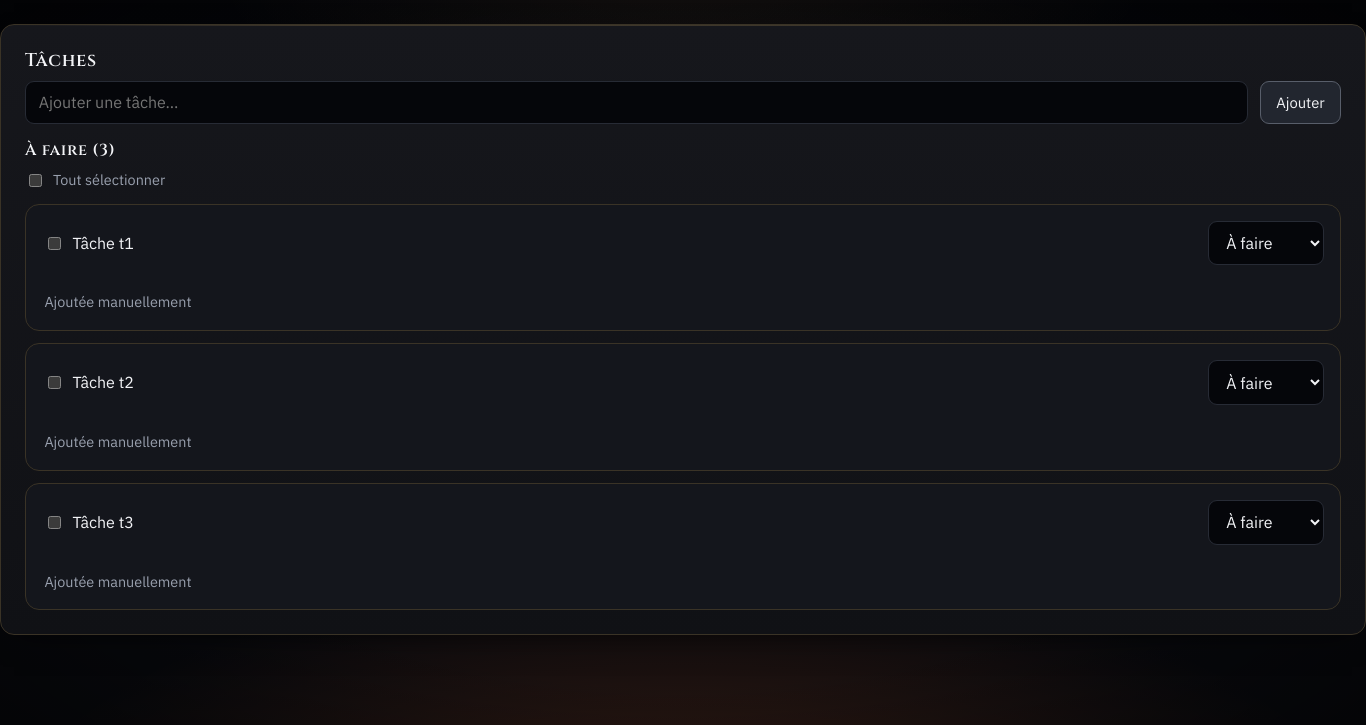
Test: TasksSection — IGINI fait les tâches › lance les tâches cochées une par une, dans l'ordre
Expected: the text "Tâche t1" is shown, 72,231 -> 134,255
Expected: the button "Démarrer IGINI" is not shown
Click the checkbox named "Faire faire : Tâche t1" at [55, 243], box 48,236 -> 61,250
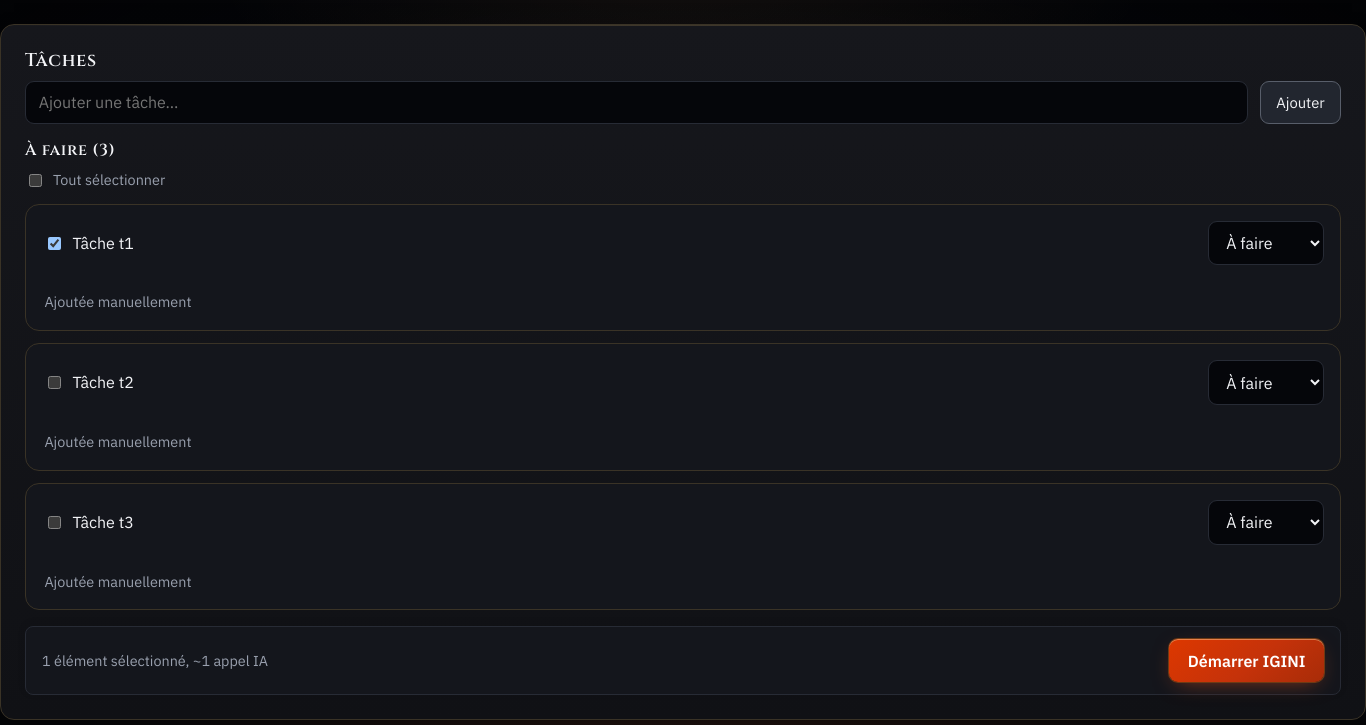
Click the checkbox named "Faire faire : Tâche t2" at [55, 383], box 48,376 -> 61,389
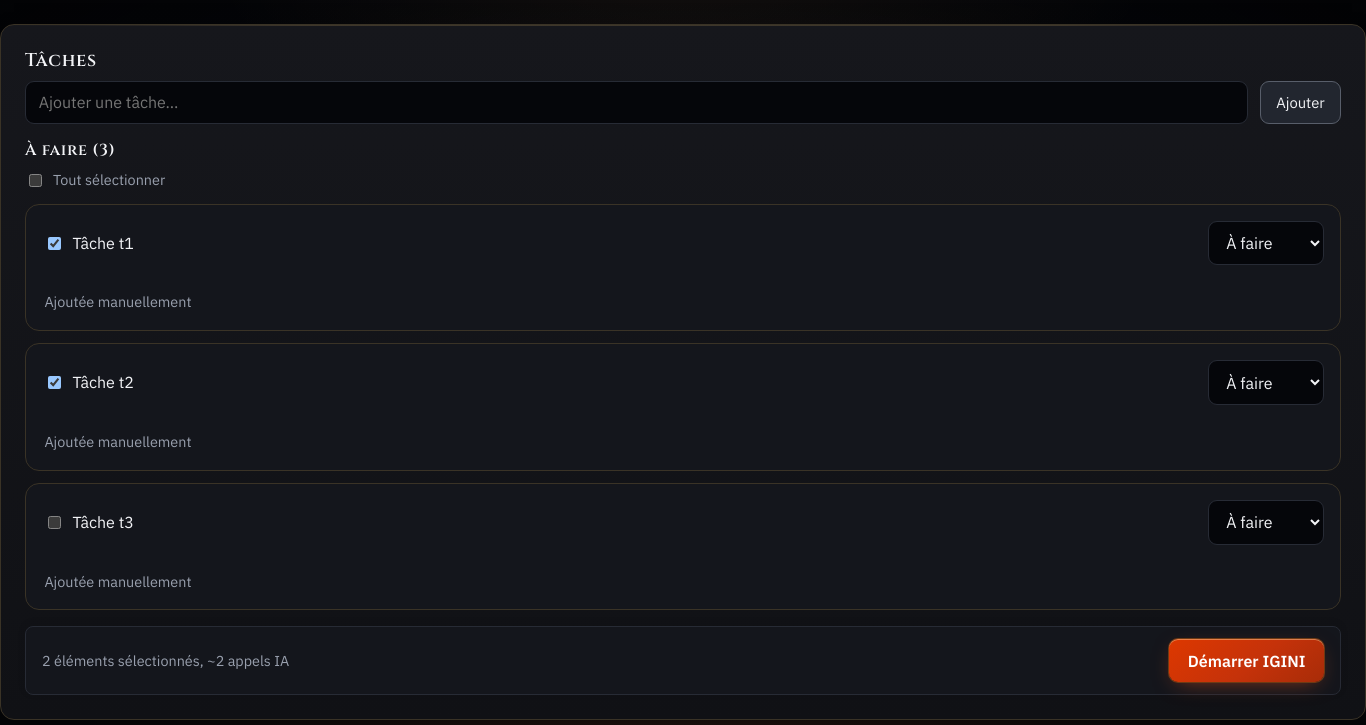
Now the button "Démarrer IGINI" is enabled
Now the text "2 éléments sélectionnés, ~2 appels IA" is shown, box 42,650 -> 289,672
Click the button "Démarrer IGINI" at [1247, 661], box 1169,639 -> 1324,682
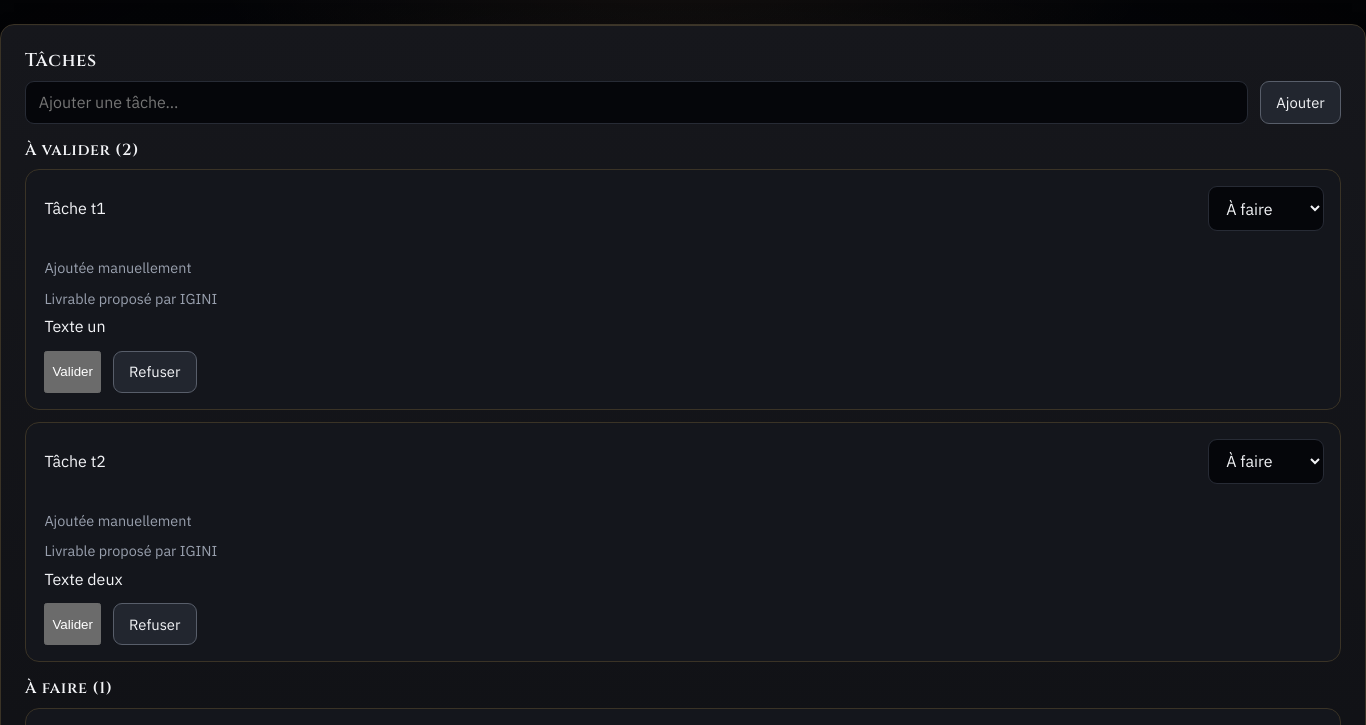
Now the text "Texte deux" is shown, box 44,569 -> 123,589
Now the text "Texte un" is shown, box 44,316 -> 106,336
